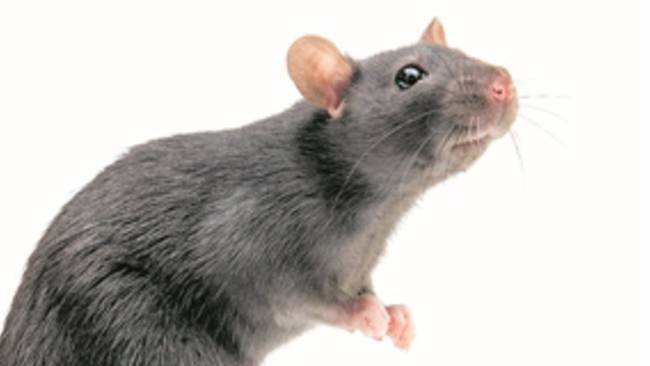rat: (6, 11, 547, 353)
